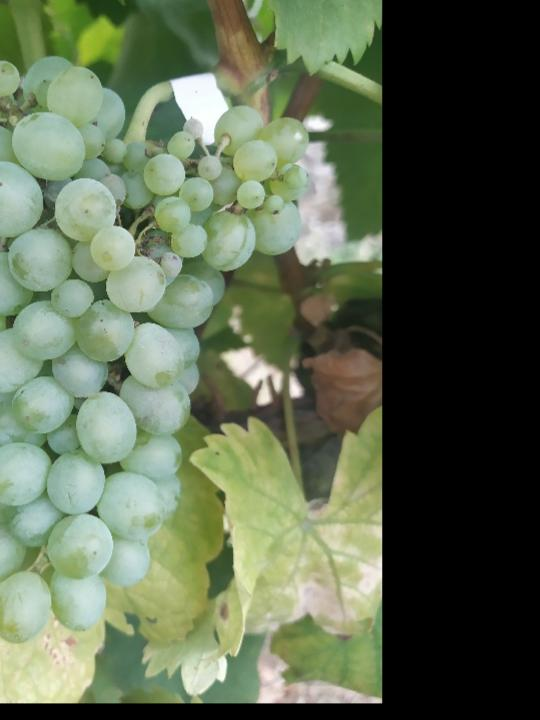grape: (0, 52, 313, 647)
